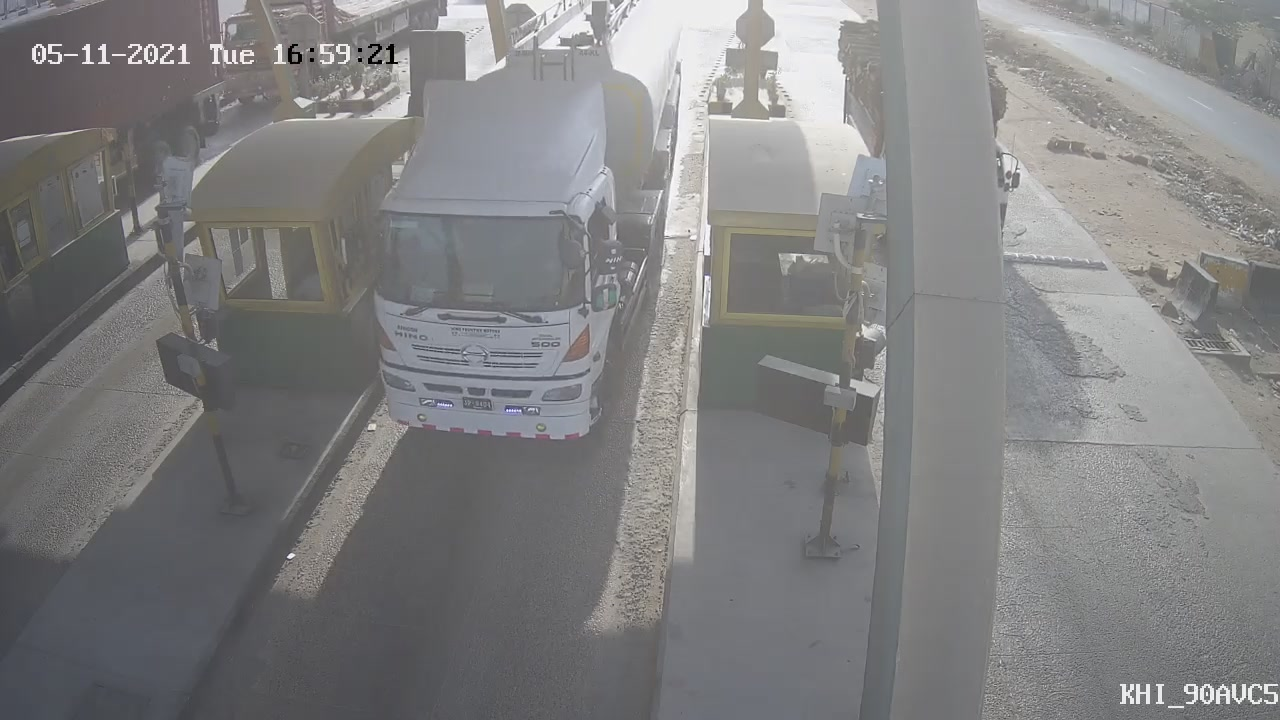F6: (313, 3, 713, 468)
